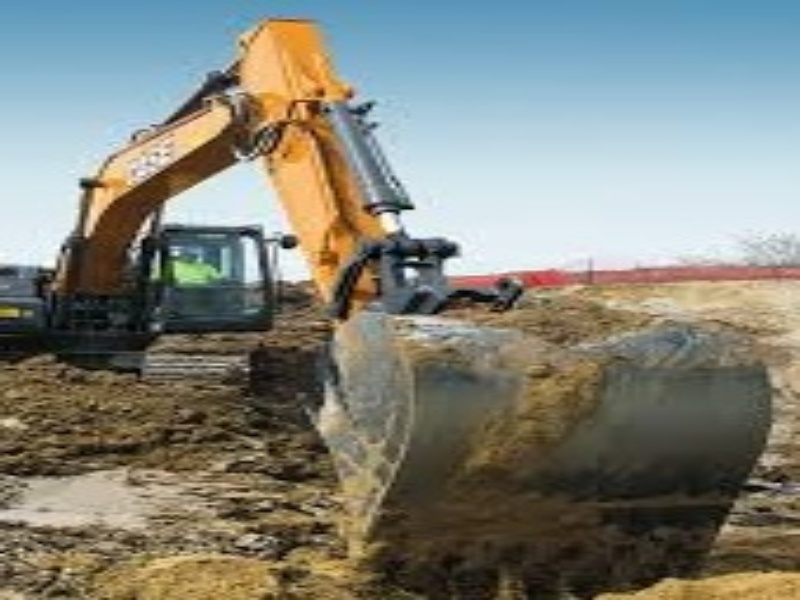wajueji: (61, 133, 325, 431)
